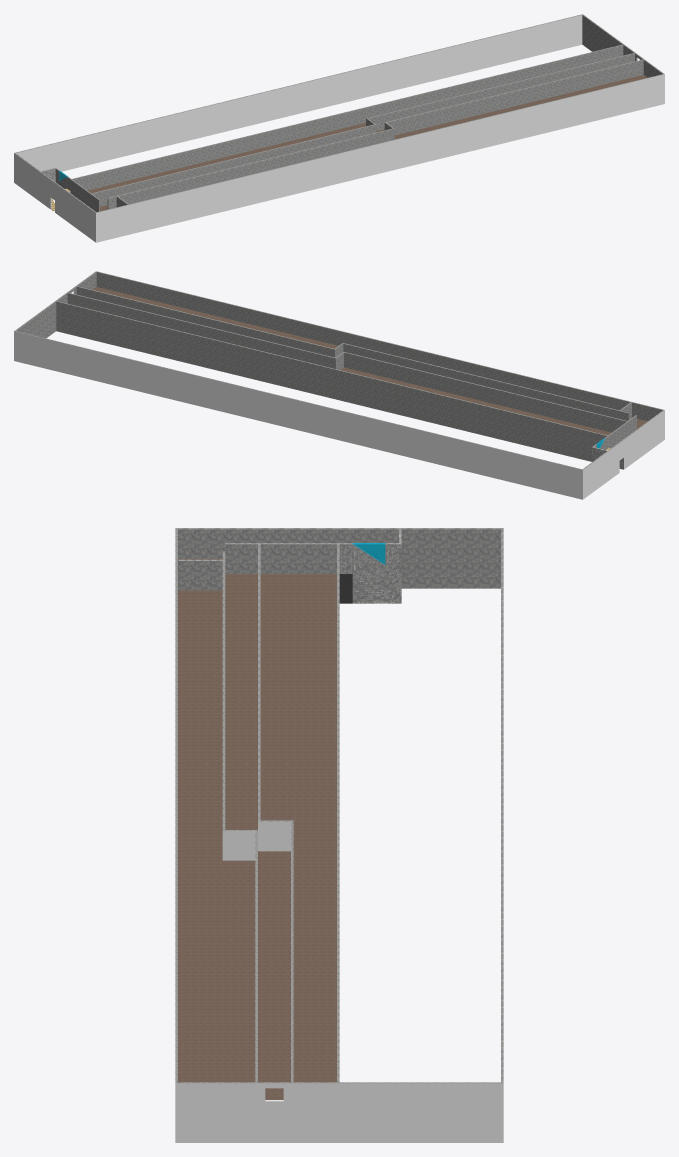
Rendered from willow_grove_indoor.dae.
The picture shows the model from 3 angles, top to bottom: view 1: azimuth 30°, elevation 25°; view 2: azimuth 150°, elevation 25°; view 3: azimuth 270°, elevation 25°; orthographic projection. The views are drawn at different scales.
Parts seen in each view (by area): view 1: SketchUp (×7); view 2: SketchUp (×6); view 3: SketchUp (×9).
Part boxes in pixels (x1,y1,x2,y2): SketchUp (×7): [14, 14, 664, 242]; SketchUp (×6): [14, 271, 664, 499]; SketchUp (×9): [175, 528, 503, 1142].
Size of the model in its own units: 3937 by 984 by 206.
6 materials, 5 textured.
